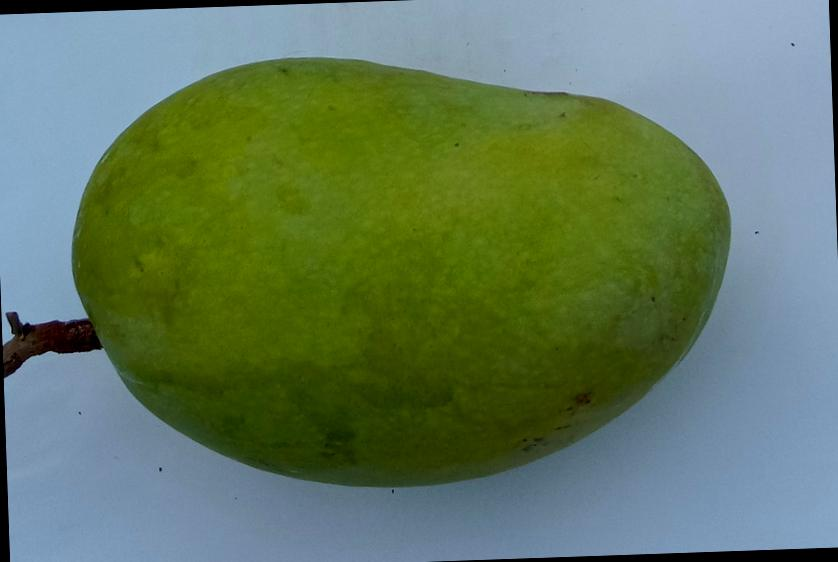Mango Unripe: (38, 14, 775, 540)
